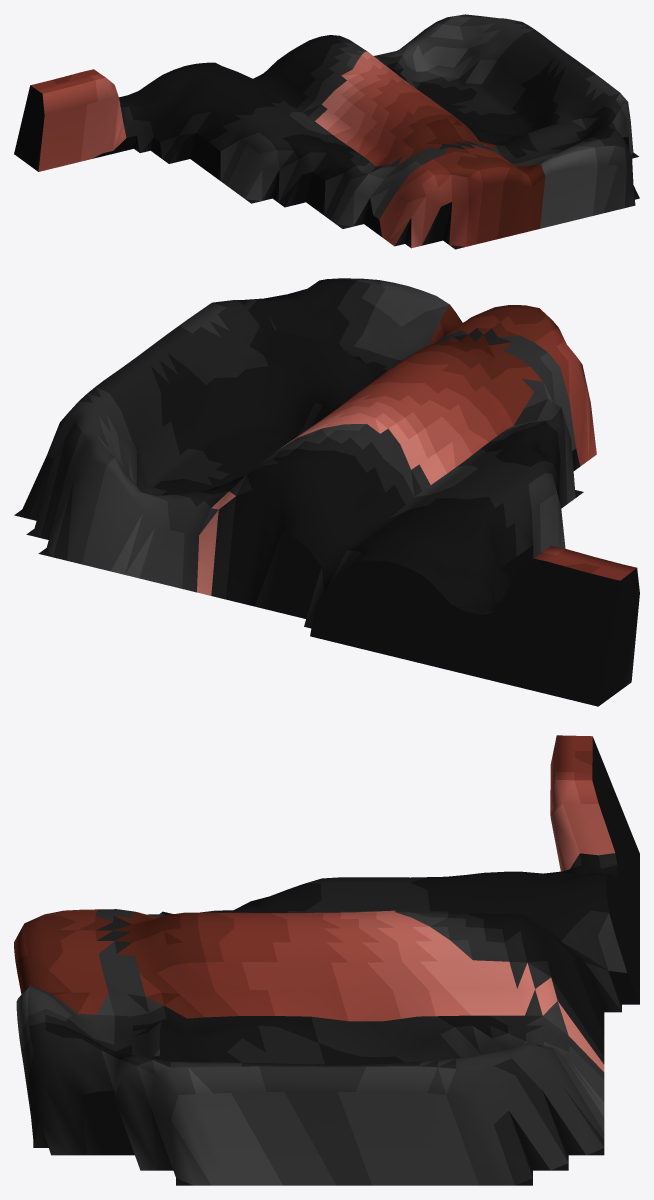
The model's file is brick_bulb_br_wreck.glb.
The picture shows the model from 3 angles, top to bottom: view 1: azimuth 30°, elevation 25°; view 2: azimuth 150°, elevation 25°; view 3: azimuth 270°, elevation 25°; orthographic projection. The views are drawn at different scales.
Visible parts, largest first — view 1: brick_bulb_br_wreck; view 2: brick_bulb_br_wreck; view 3: brick_bulb_br_wreck.
Boxes of the visible parts, box(x1,y1,x2,y2) form: brick_bulb_br_wreck: box(14, 14, 639, 249); brick_bulb_br_wreck: box(14, 278, 639, 706); brick_bulb_br_wreck: box(14, 735, 639, 1185).
Bounding box in the file's own units: 22 × 3.87 × 17.54.
